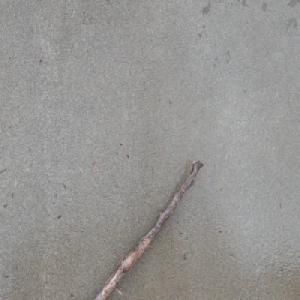Wood: (91, 158, 205, 300)
